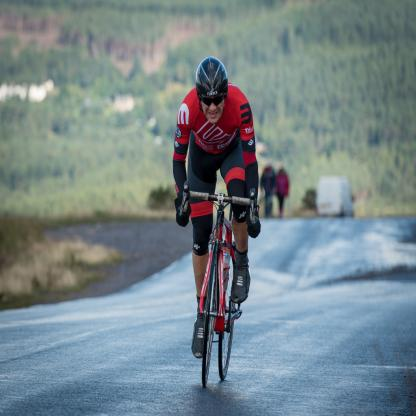Helmet: (192, 58, 228, 111)
